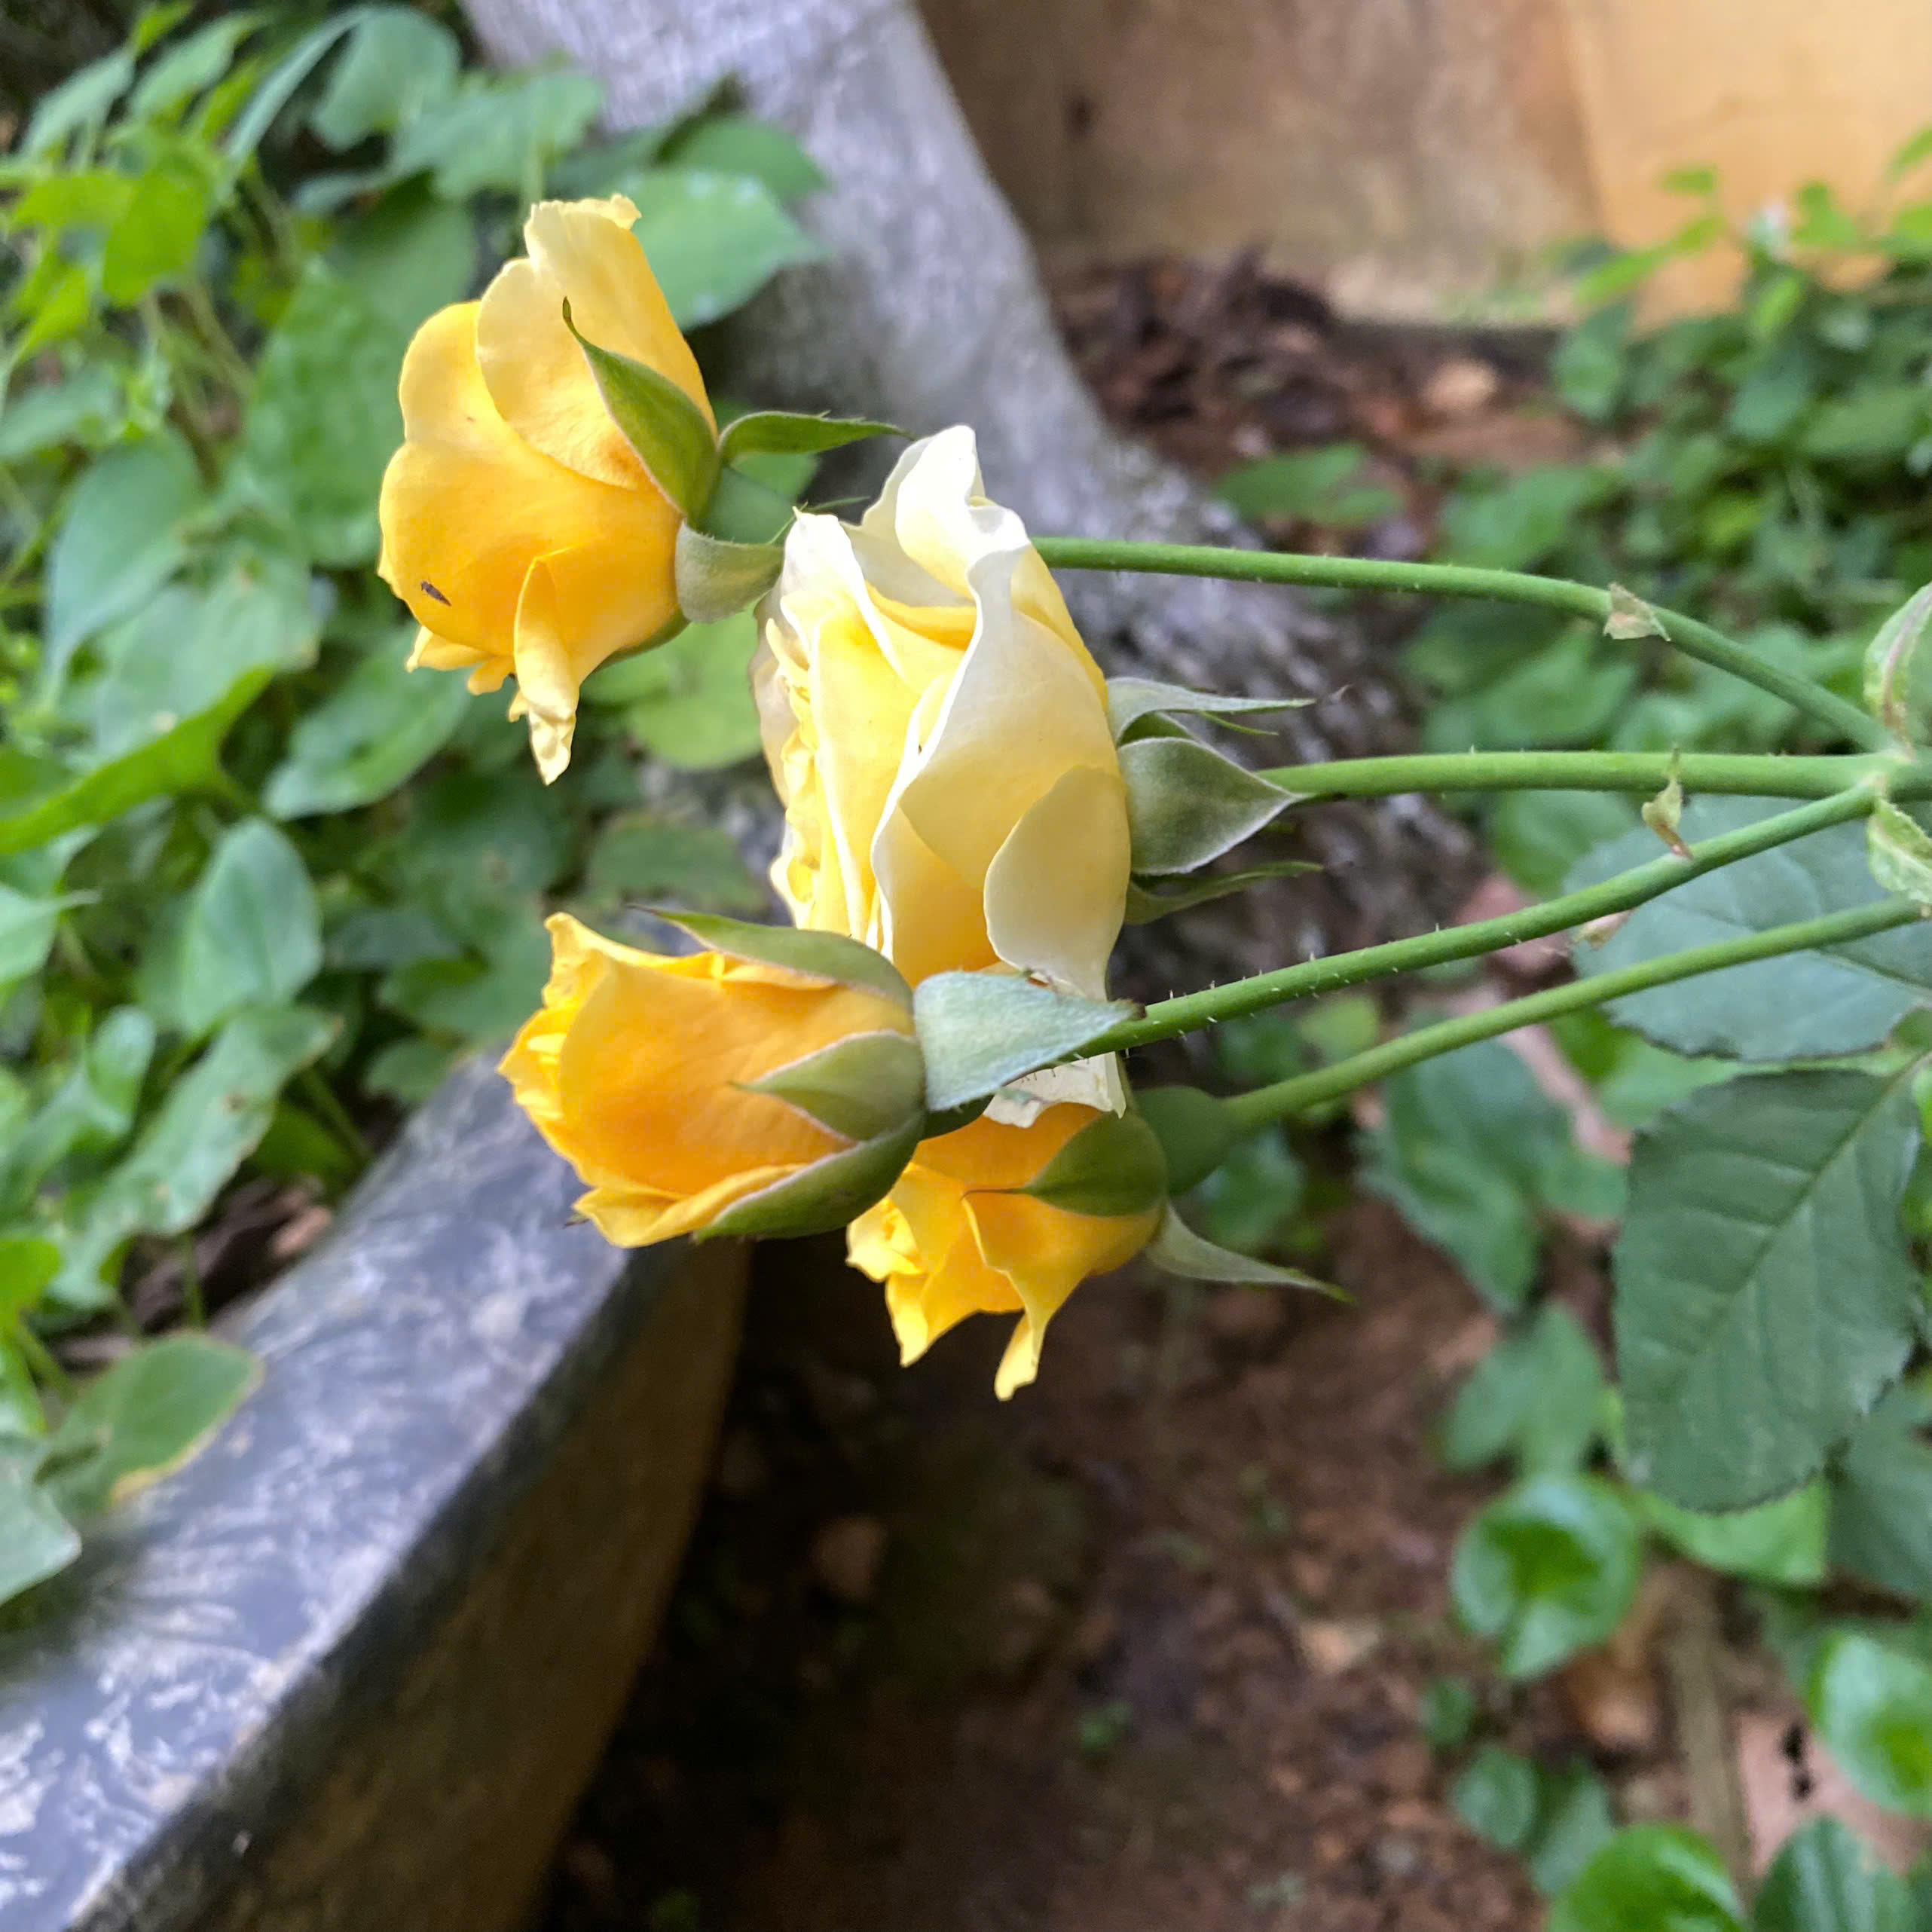hoa_thuoc_duoc: (295, 157, 1932, 1428)
